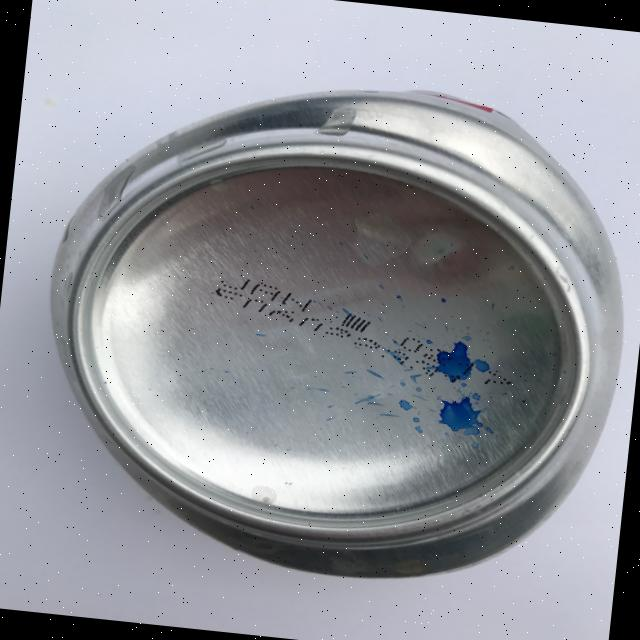metal: (21, 51, 640, 603)
